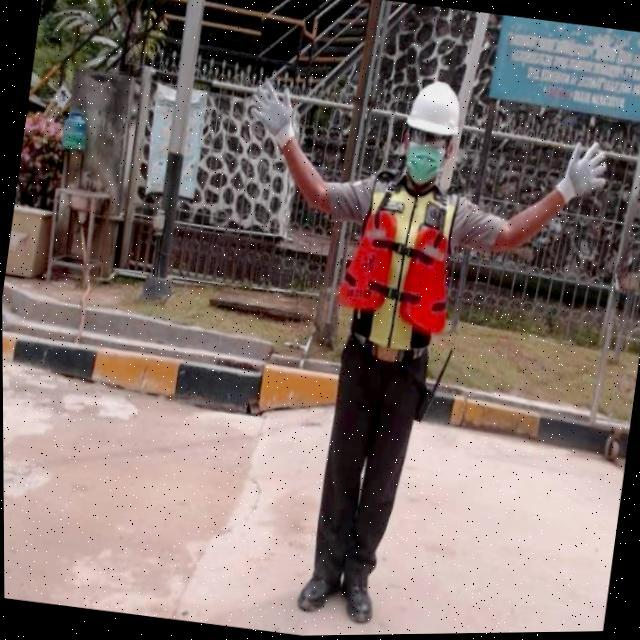goggles_on: (401, 120, 459, 152)
